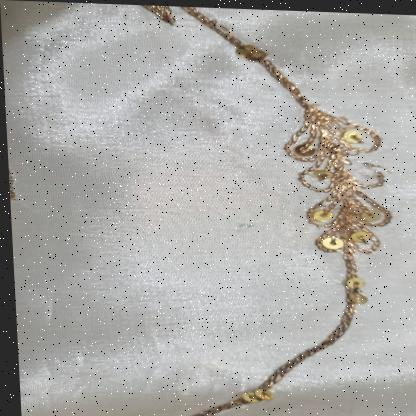spot: (227, 218, 254, 235)
